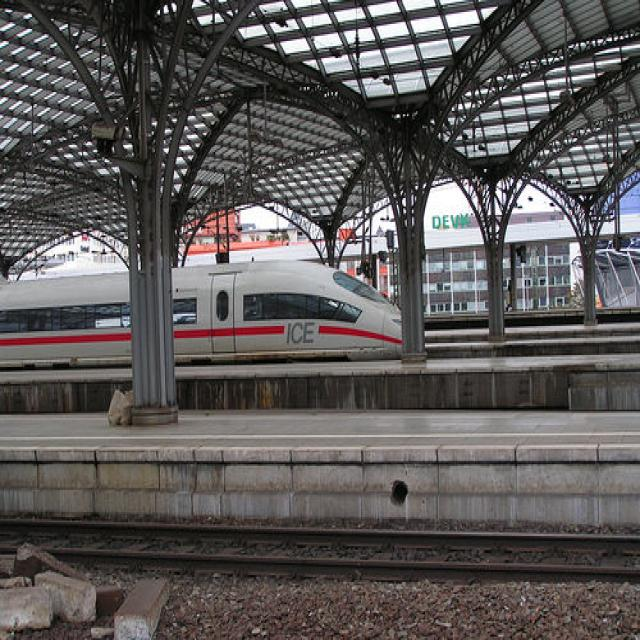train: (1, 257, 402, 373)
